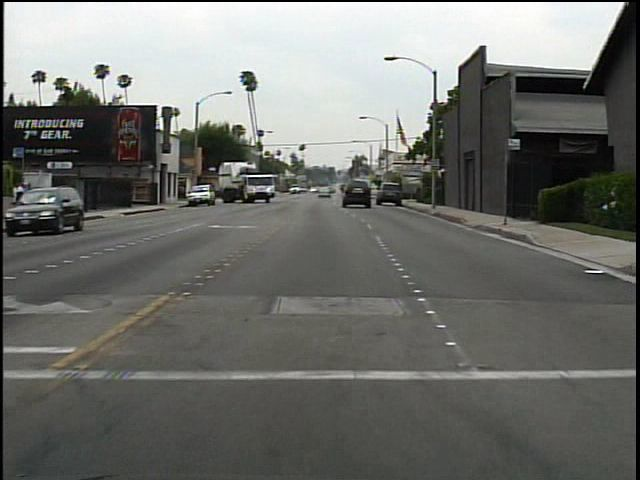person: (11, 176, 31, 204)
